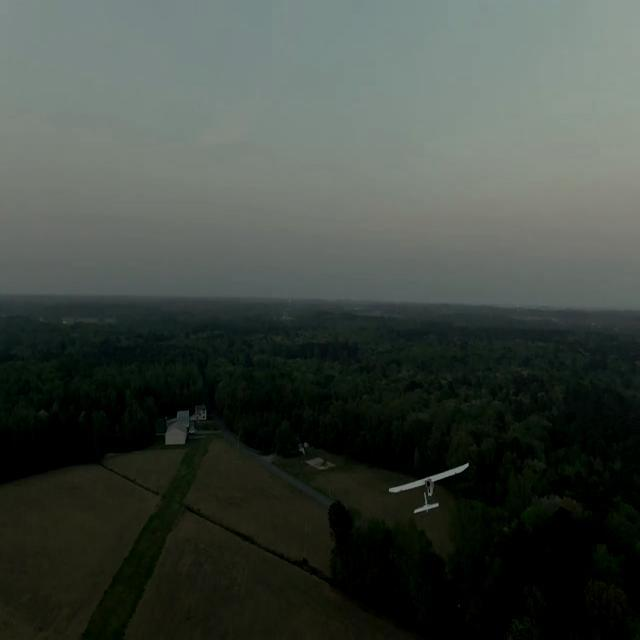iha: (415, 458, 441, 516)
